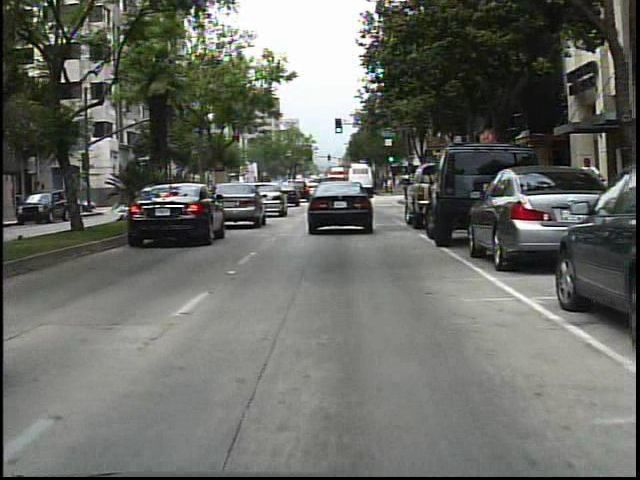person: (575, 154, 601, 222)
